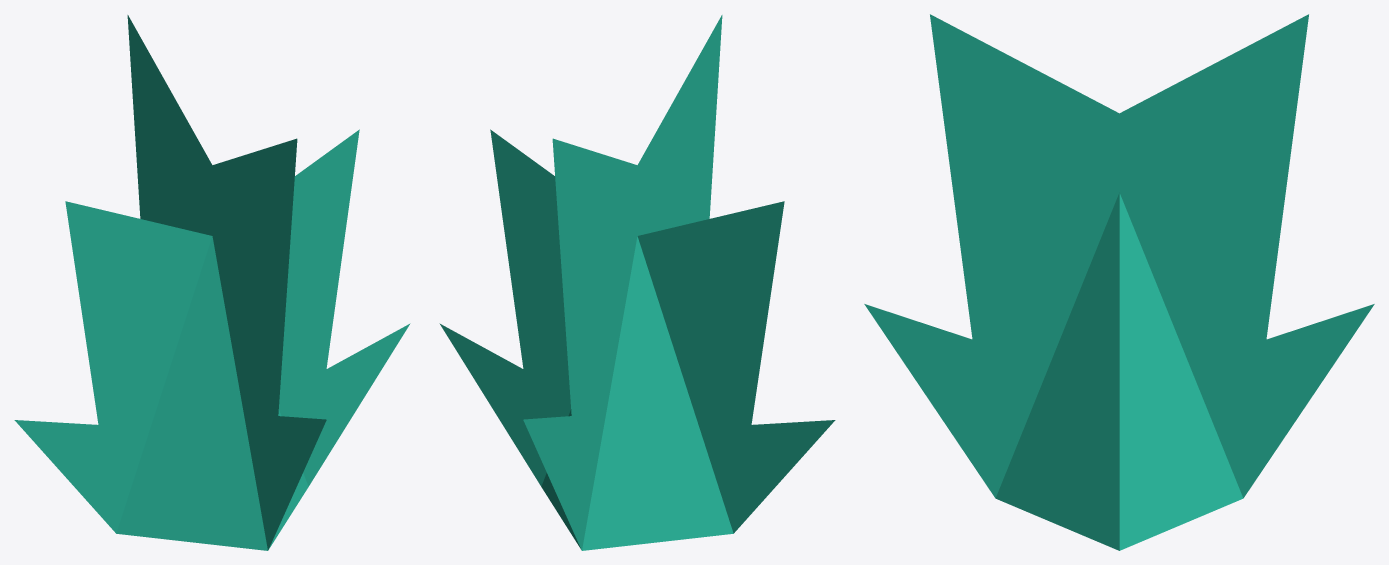
The model's file is plant-flat-tall.glb.
3 renders of one model, left to right at view 1: azimuth 30°, elevation 25°; view 2: azimuth 150°, elevation 25°; view 3: azimuth 270°, elevation 25°, orthographic. The views are drawn at different scales.
Visible parts, largest first — view 1: plant_flatTall; view 2: plant_flatTall; view 3: plant_flatTall.
Boxes of the visible parts, left/top/right/bottom form: plant_flatTall: left=14, top=15, right=410, bottom=550; plant_flatTall: left=439, top=15, right=835, bottom=550; plant_flatTall: left=864, top=14, right=1374, bottom=550.
Size of the model in its own units: 0.2717 by 0.2843 by 0.2717.
